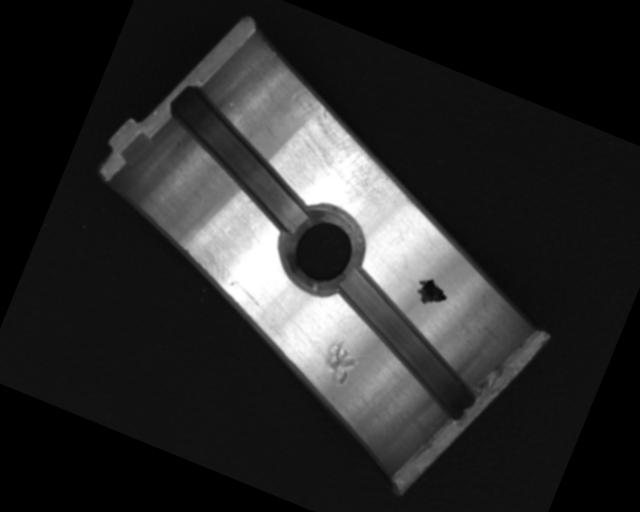blot: (410, 274, 453, 314)
bruise: (315, 333, 366, 389)
gap: (139, 80, 335, 241), (309, 265, 502, 423)
hole: (273, 194, 372, 305)
scratch: (262, 81, 421, 218)
